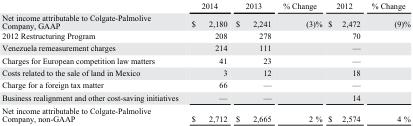table: (1, 1, 409, 122)
table column: (1, 1, 184, 122), (276, 1, 324, 122), (184, 1, 230, 122), (230, 1, 276, 122), (365, 1, 409, 122), (324, 1, 365, 122)
table column header: (1, 1, 409, 11)
table row: (1, 11, 409, 30), (1, 103, 409, 122), (1, 53, 409, 66), (1, 90, 409, 103), (1, 41, 409, 53), (1, 66, 409, 78), (1, 78, 409, 90), (1, 30, 409, 41), (1, 1, 409, 11)
